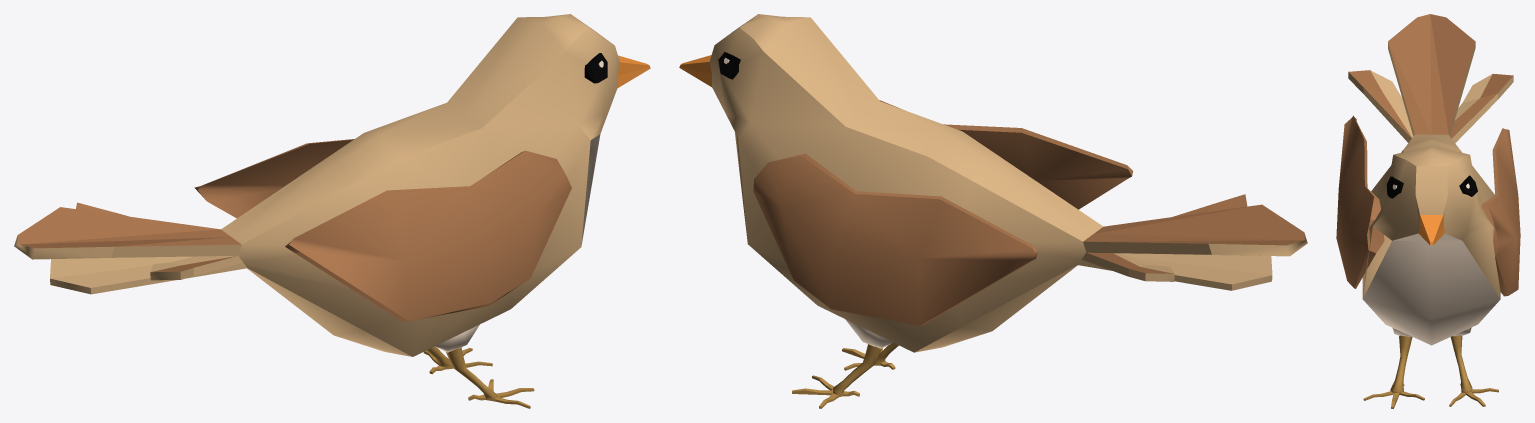
Rendered from bird.fbx.
3 views of the same model, side by side, from view 1: azimuth 30°, elevation 25°; view 2: azimuth 150°, elevation 25°; view 3: azimuth 270°, elevation 25° (orthographic). The views are drawn at different scales.
Parts seen in each view (by area): view 1: Box001, Box002, Box003, Cylinder005, Cylinder006; view 2: Box001, Box003, Box002, Cylinder006; view 3: Box001, Box002, Box003, Cylinder005, Cylinder006, Cylinder001, Cylinder004.
Boxes of the visible parts, x1,y1,x2,y2 form: Box001: (14, 14, 650, 356); Box002: (285, 150, 571, 322); Box003: (194, 139, 354, 218); Cylinder005: (446, 347, 534, 408); Cylinder006: (423, 346, 492, 374); Box001: (679, 14, 1307, 352); Box003: (753, 153, 1037, 325); Box002: (879, 100, 1132, 209); Cylinder006: (792, 344, 881, 408); Box001: (1348, 14, 1513, 345); Box002: (1336, 115, 1384, 288); Box003: (1481, 128, 1520, 296); Cylinder005: (1363, 335, 1424, 408); Cylinder006: (1449, 335, 1498, 406); Cylinder001: (1386, 176, 1403, 198); Cylinder004: (1459, 175, 1477, 196).
Bounding box in the file's own units: 6487 × 3371 × 2027.
